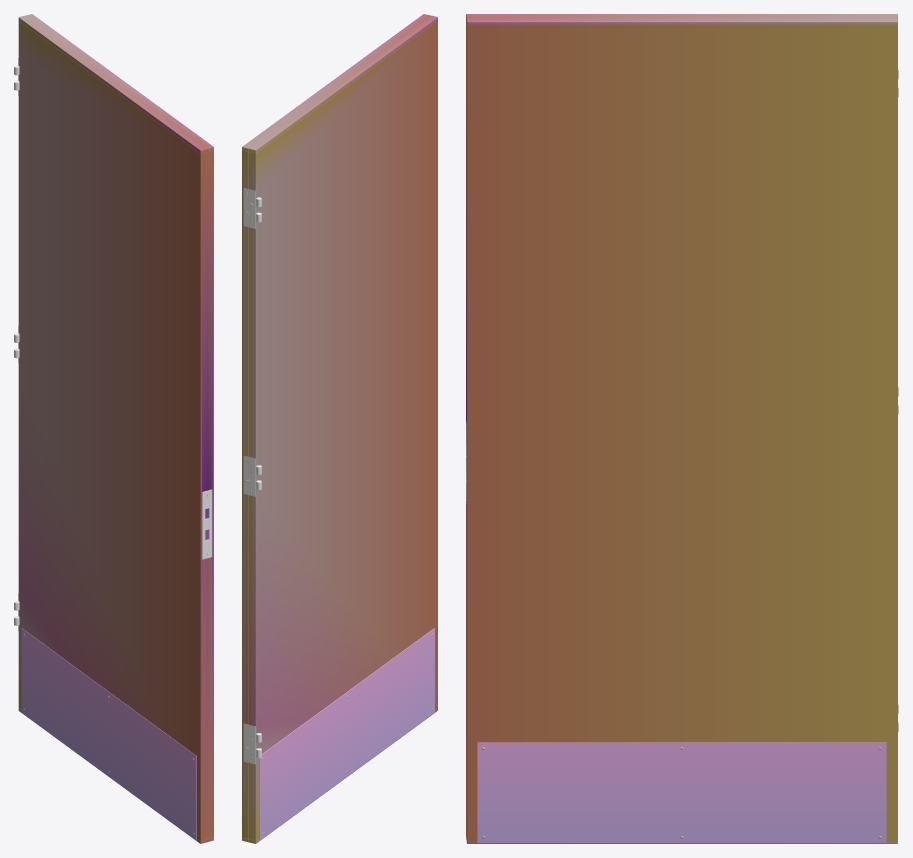
The model's file is Kit_DoorLeaf_Steel.fbx.
The picture shows the model from 3 angles, left to right: view 1: azimuth 30°, elevation 25°; view 2: azimuth 150°, elevation 25°; view 3: azimuth 270°, elevation 25°; orthographic projection. The views are drawn at different scales.
Visible parts, largest first — view 1: Kit_DoorLeaf_Steel_LOD0; view 2: Kit_DoorLeaf_Steel_LOD0; view 3: Kit_DoorLeaf_Steel_LOD0.
Boxes of the visible parts, x1=… form: Kit_DoorLeaf_Steel_LOD0: x1=14, y1=14, x2=213, y2=843; Kit_DoorLeaf_Steel_LOD0: x1=242, y1=14, x2=437, y2=843; Kit_DoorLeaf_Steel_LOD0: x1=466, y1=14, x2=898, y2=843.
Size of what is drawn, in the model's own units: 0.0613 by 2.08 by 0.9925.
